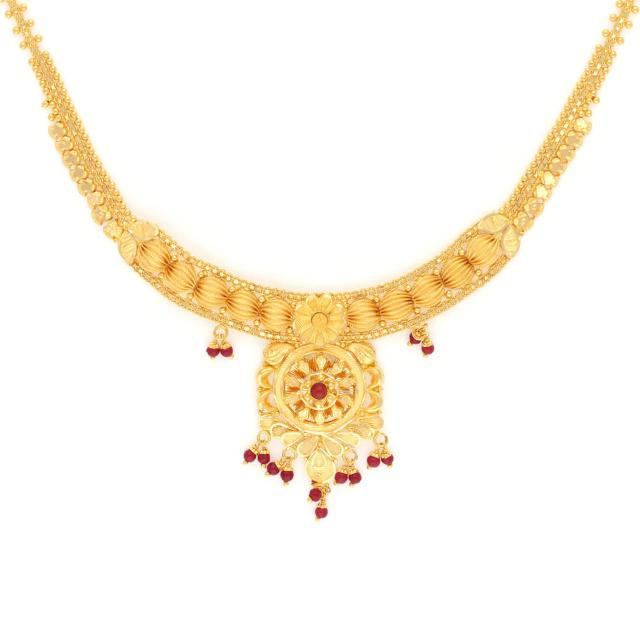missing gem: (312, 313, 328, 328)
